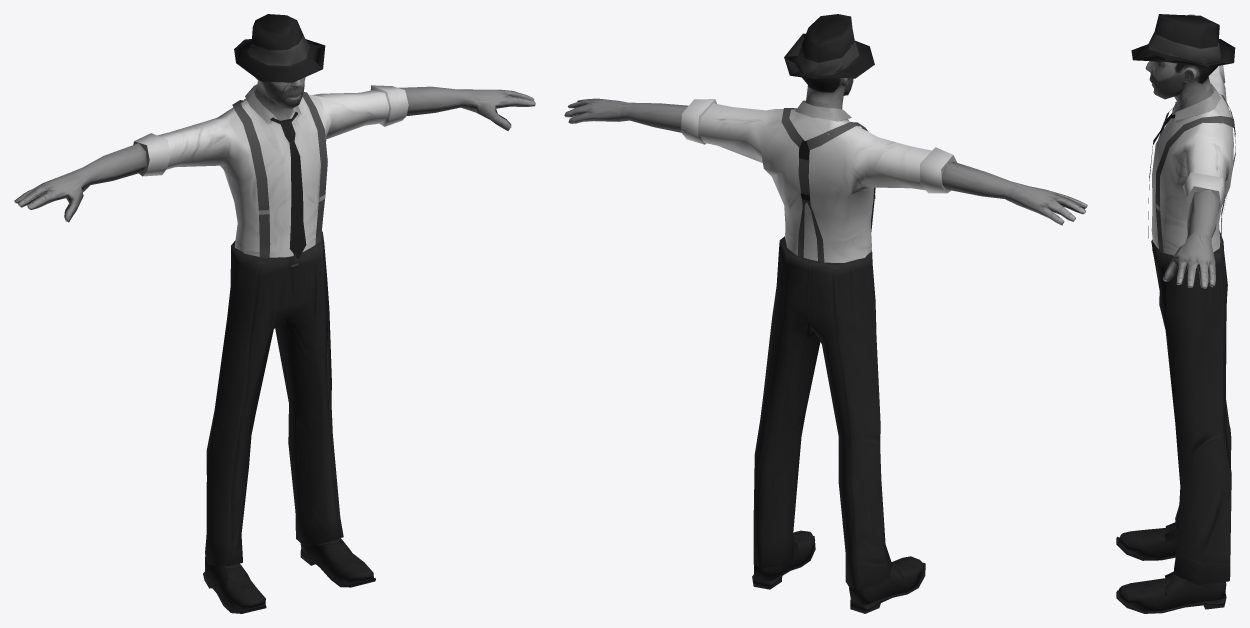
3 views of the same model, side by side, from view 1: azimuth 30°, elevation 25°; view 2: azimuth 150°, elevation 25°; view 3: azimuth 270°, elevation 25° (orthographic).
Parts seen in each view (by area): view 1: PrivateInvestigator; view 2: PrivateInvestigator; view 3: PrivateInvestigator.
Part boxes in pixels (x1,y1,x2,y2): PrivateInvestigator: (14, 14, 535, 613); PrivateInvestigator: (564, 14, 1087, 613); PrivateInvestigator: (1116, 14, 1235, 613).
Bounding box in the file's own units: 22.21 × 23.19 × 4.45.
Materials: 1 (1 with a texture image).
